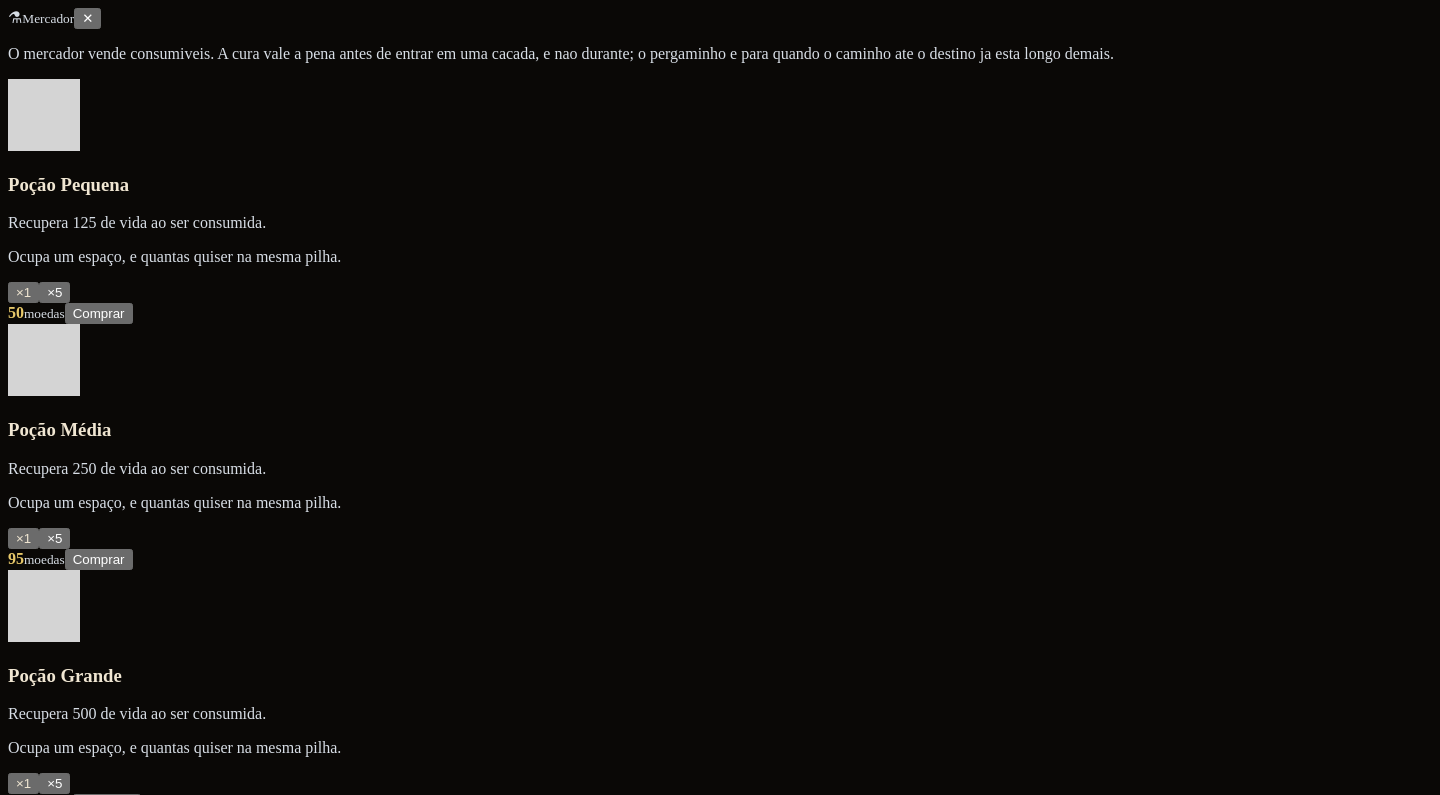
it: a quantidade › muda o preco mostrado para o total do lote
Expected: the text "50" is shown, [8,304,24,321]
Step 1. Click the button "×5" below "Recupera 125 de vida ao ser consumida." → (55, 293), box [39,282,70,303]
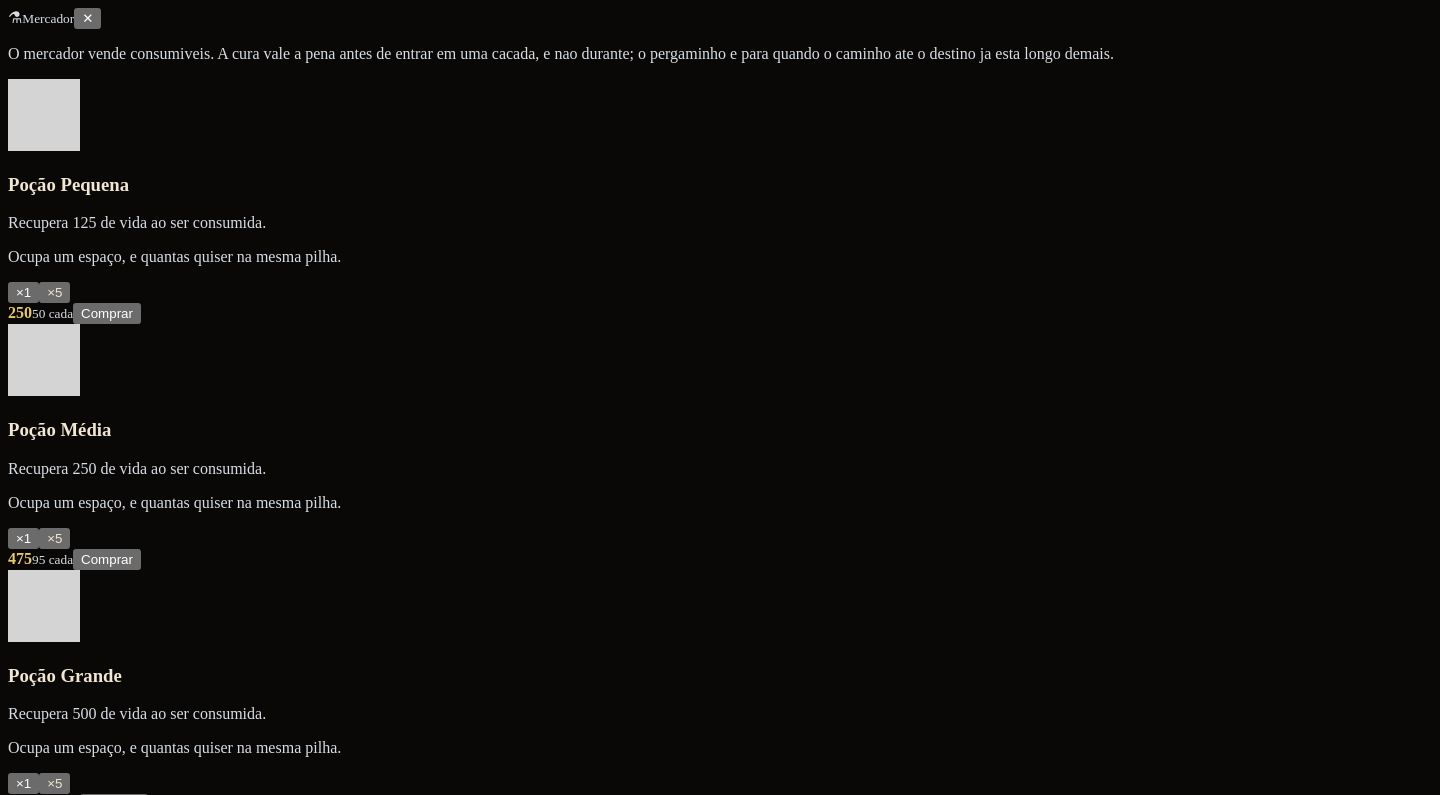
Now the text "250" is shown, box [8,304,32,321]
